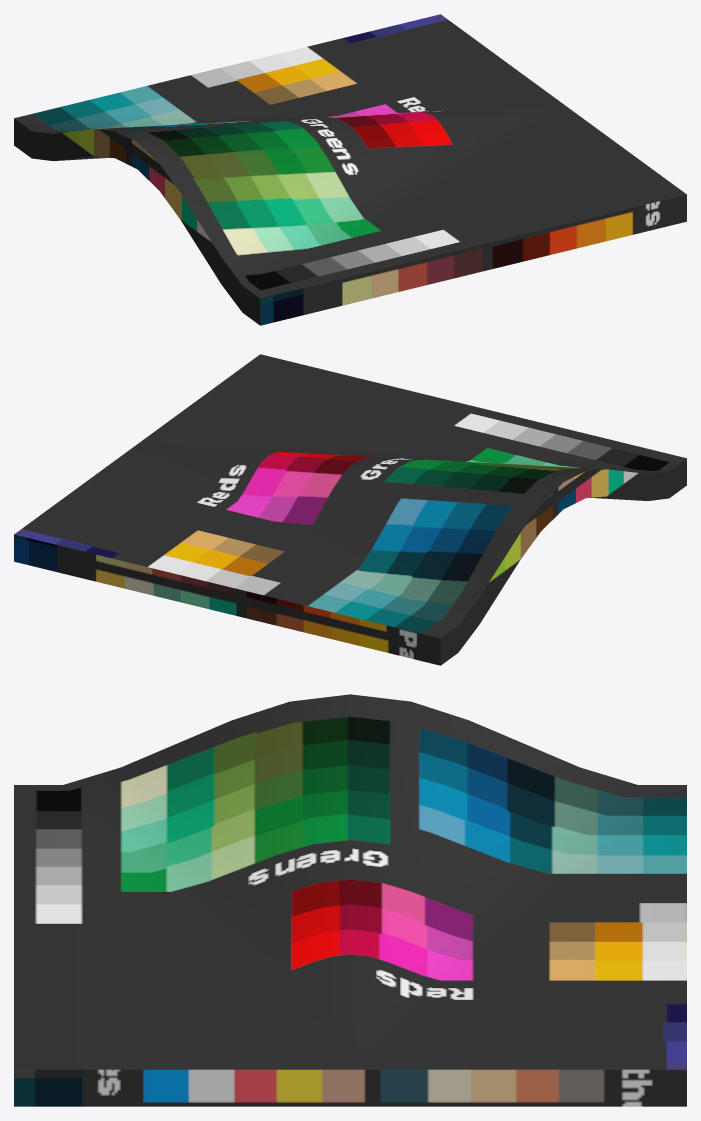
File: basic_sidebend.obj
3 renders of one model, top to bottom at view 1: azimuth 30°, elevation 25°; view 2: azimuth 150°, elevation 25°; view 3: azimuth 270°, elevation 25°, orthographic. The views are drawn at different scales.
Parts seen in each view (by area): view 1: basic_sidebend_glb_ID3.058; view 2: basic_sidebend_glb_ID3.058; view 3: basic_sidebend_glb_ID3.058.
Part boxes in pixels (<box>): basic_sidebend_glb_ID3.058: <box>14,14,686,325</box>; basic_sidebend_glb_ID3.058: <box>14,354,686,665</box>; basic_sidebend_glb_ID3.058: <box>14,694,686,1106</box>.
Bounding box in the file's own units: 4 × 0.8385 × 4.
